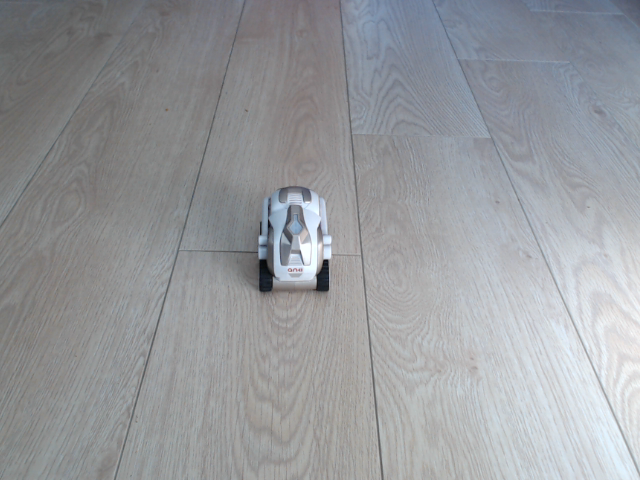cozmo: (254, 183, 338, 307)
